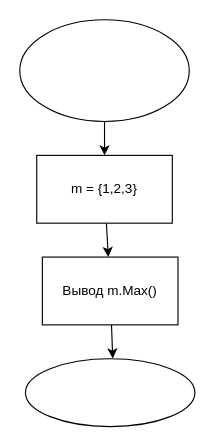
Image size: 215x446. Some labels were removed from this diagram. Each missing label, with the box of its shape:
Конец: (24, 358, 195, 427)
Начало: (19, 19, 189, 121)
